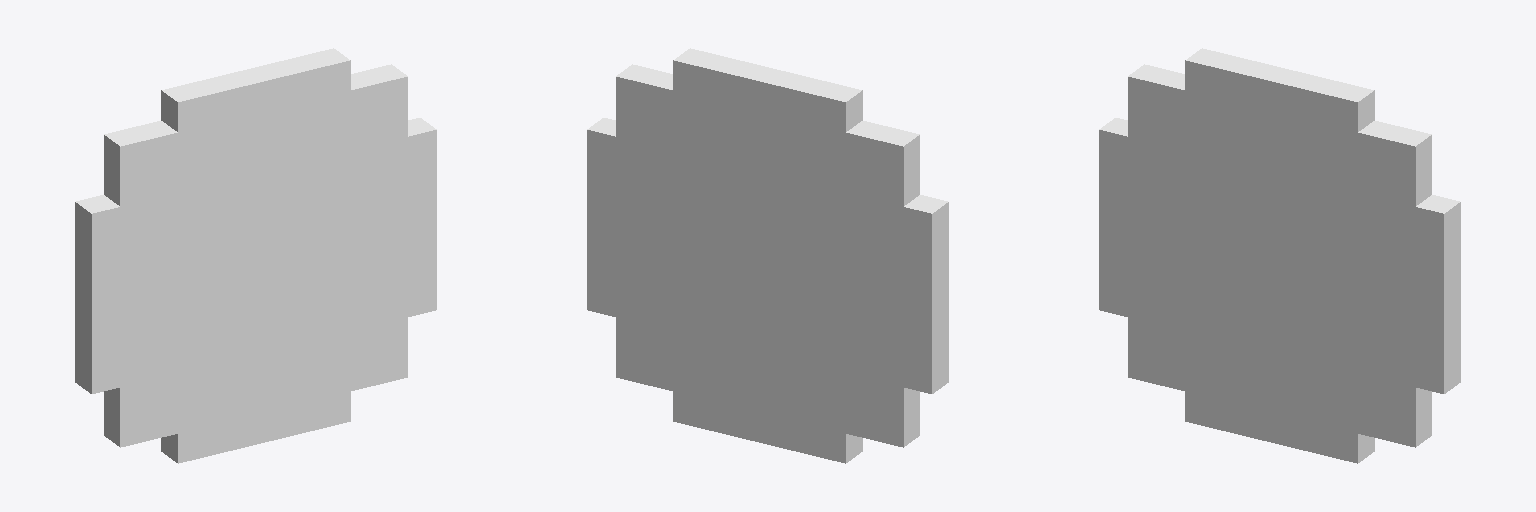
File: powerupfour.obj
3 renders of one model, left to right at view 1: azimuth 30°, elevation 25°; view 2: azimuth 150°, elevation 25°; view 3: azimuth 330°, elevation 25°, orthographic.
Parts seen in each view (by area): view 1: powerupfour; view 2: powerupfour; view 3: powerupfour.
Boxes of the visible parts, box(x1,y1,x2,y2) form: powerupfour: box(75, 48, 436, 463); powerupfour: box(587, 48, 948, 463); powerupfour: box(1099, 48, 1460, 463).
Bounding box in the file's own units: 12 × 12 × 1.